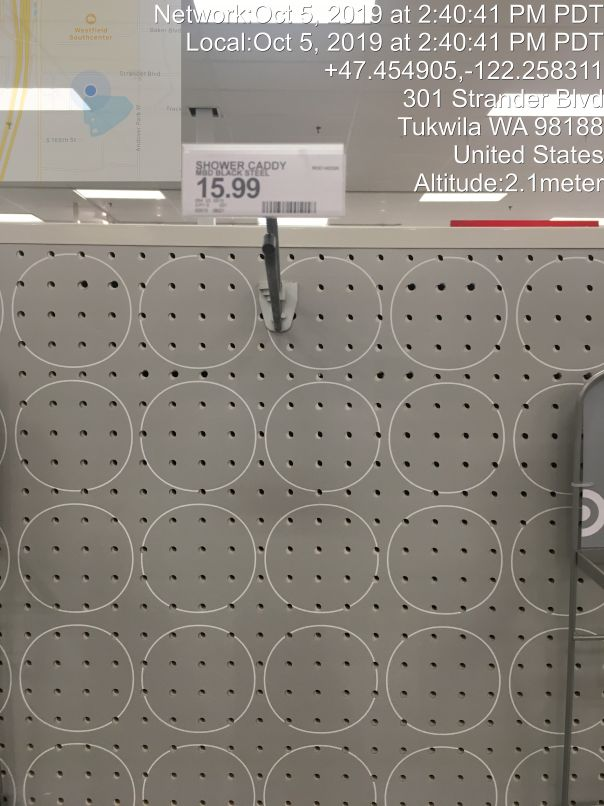Label: (176, 139, 351, 219)
Location: (395, 82, 604, 169)
Time: (153, 4, 603, 58)
Void: (179, 285, 392, 734)
